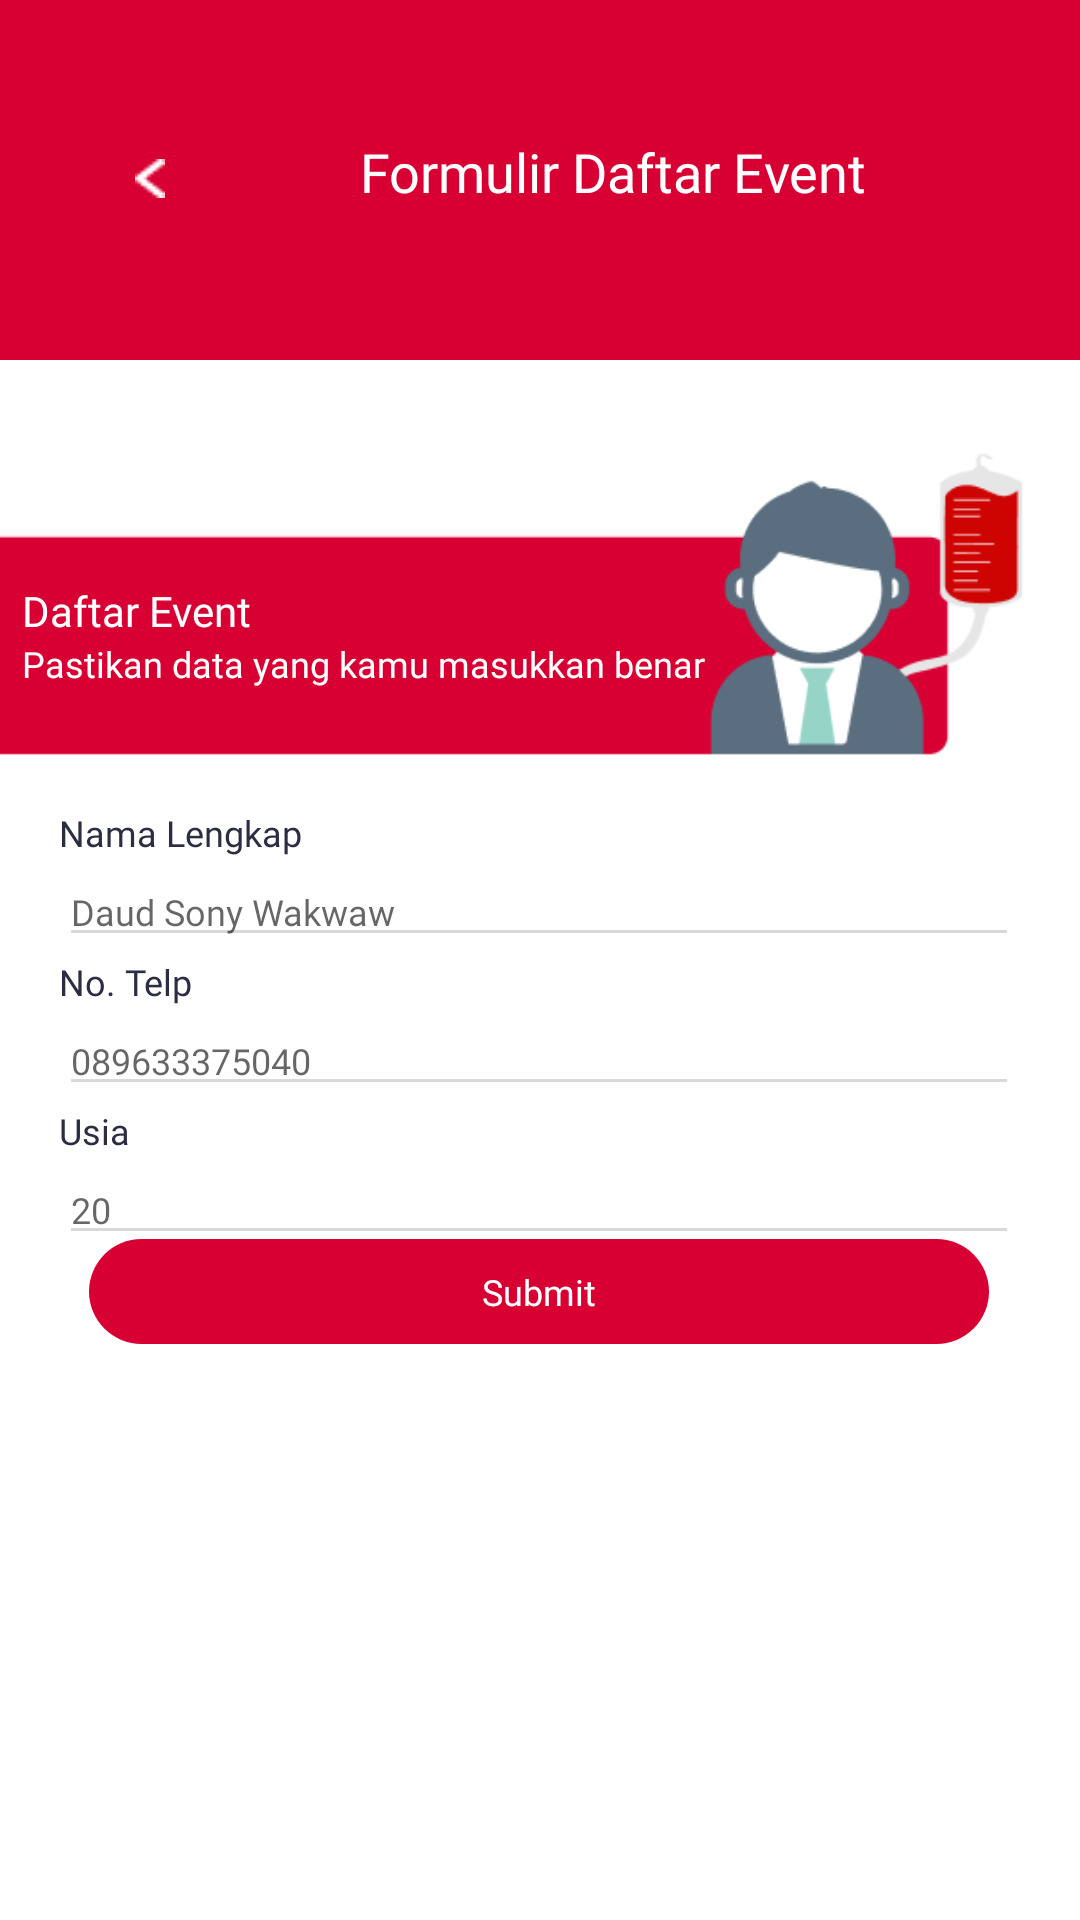

Screen size 1080px×1920px. Icon name, then its center in pixels as point (x, y):
back: point (150, 178)
